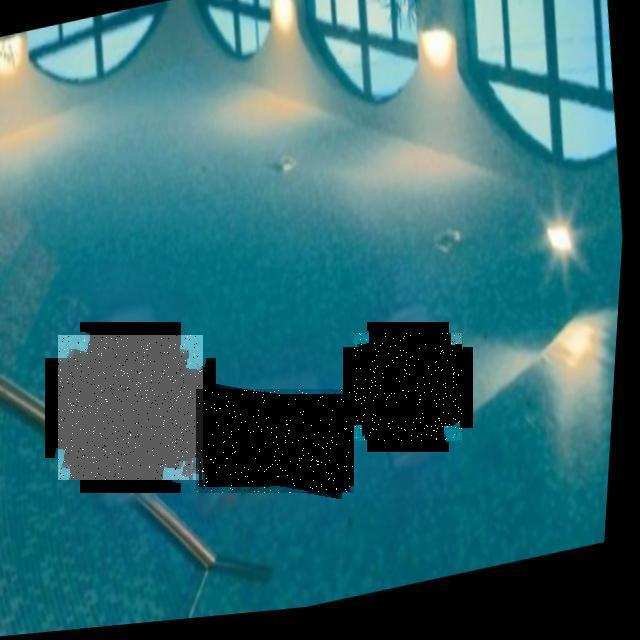swimming: (58, 335, 203, 480), (196, 389, 354, 493), (354, 333, 462, 441)
